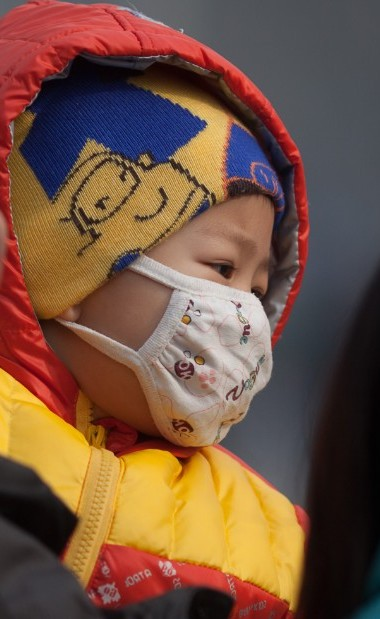with_mask: (84, 163, 288, 466)
